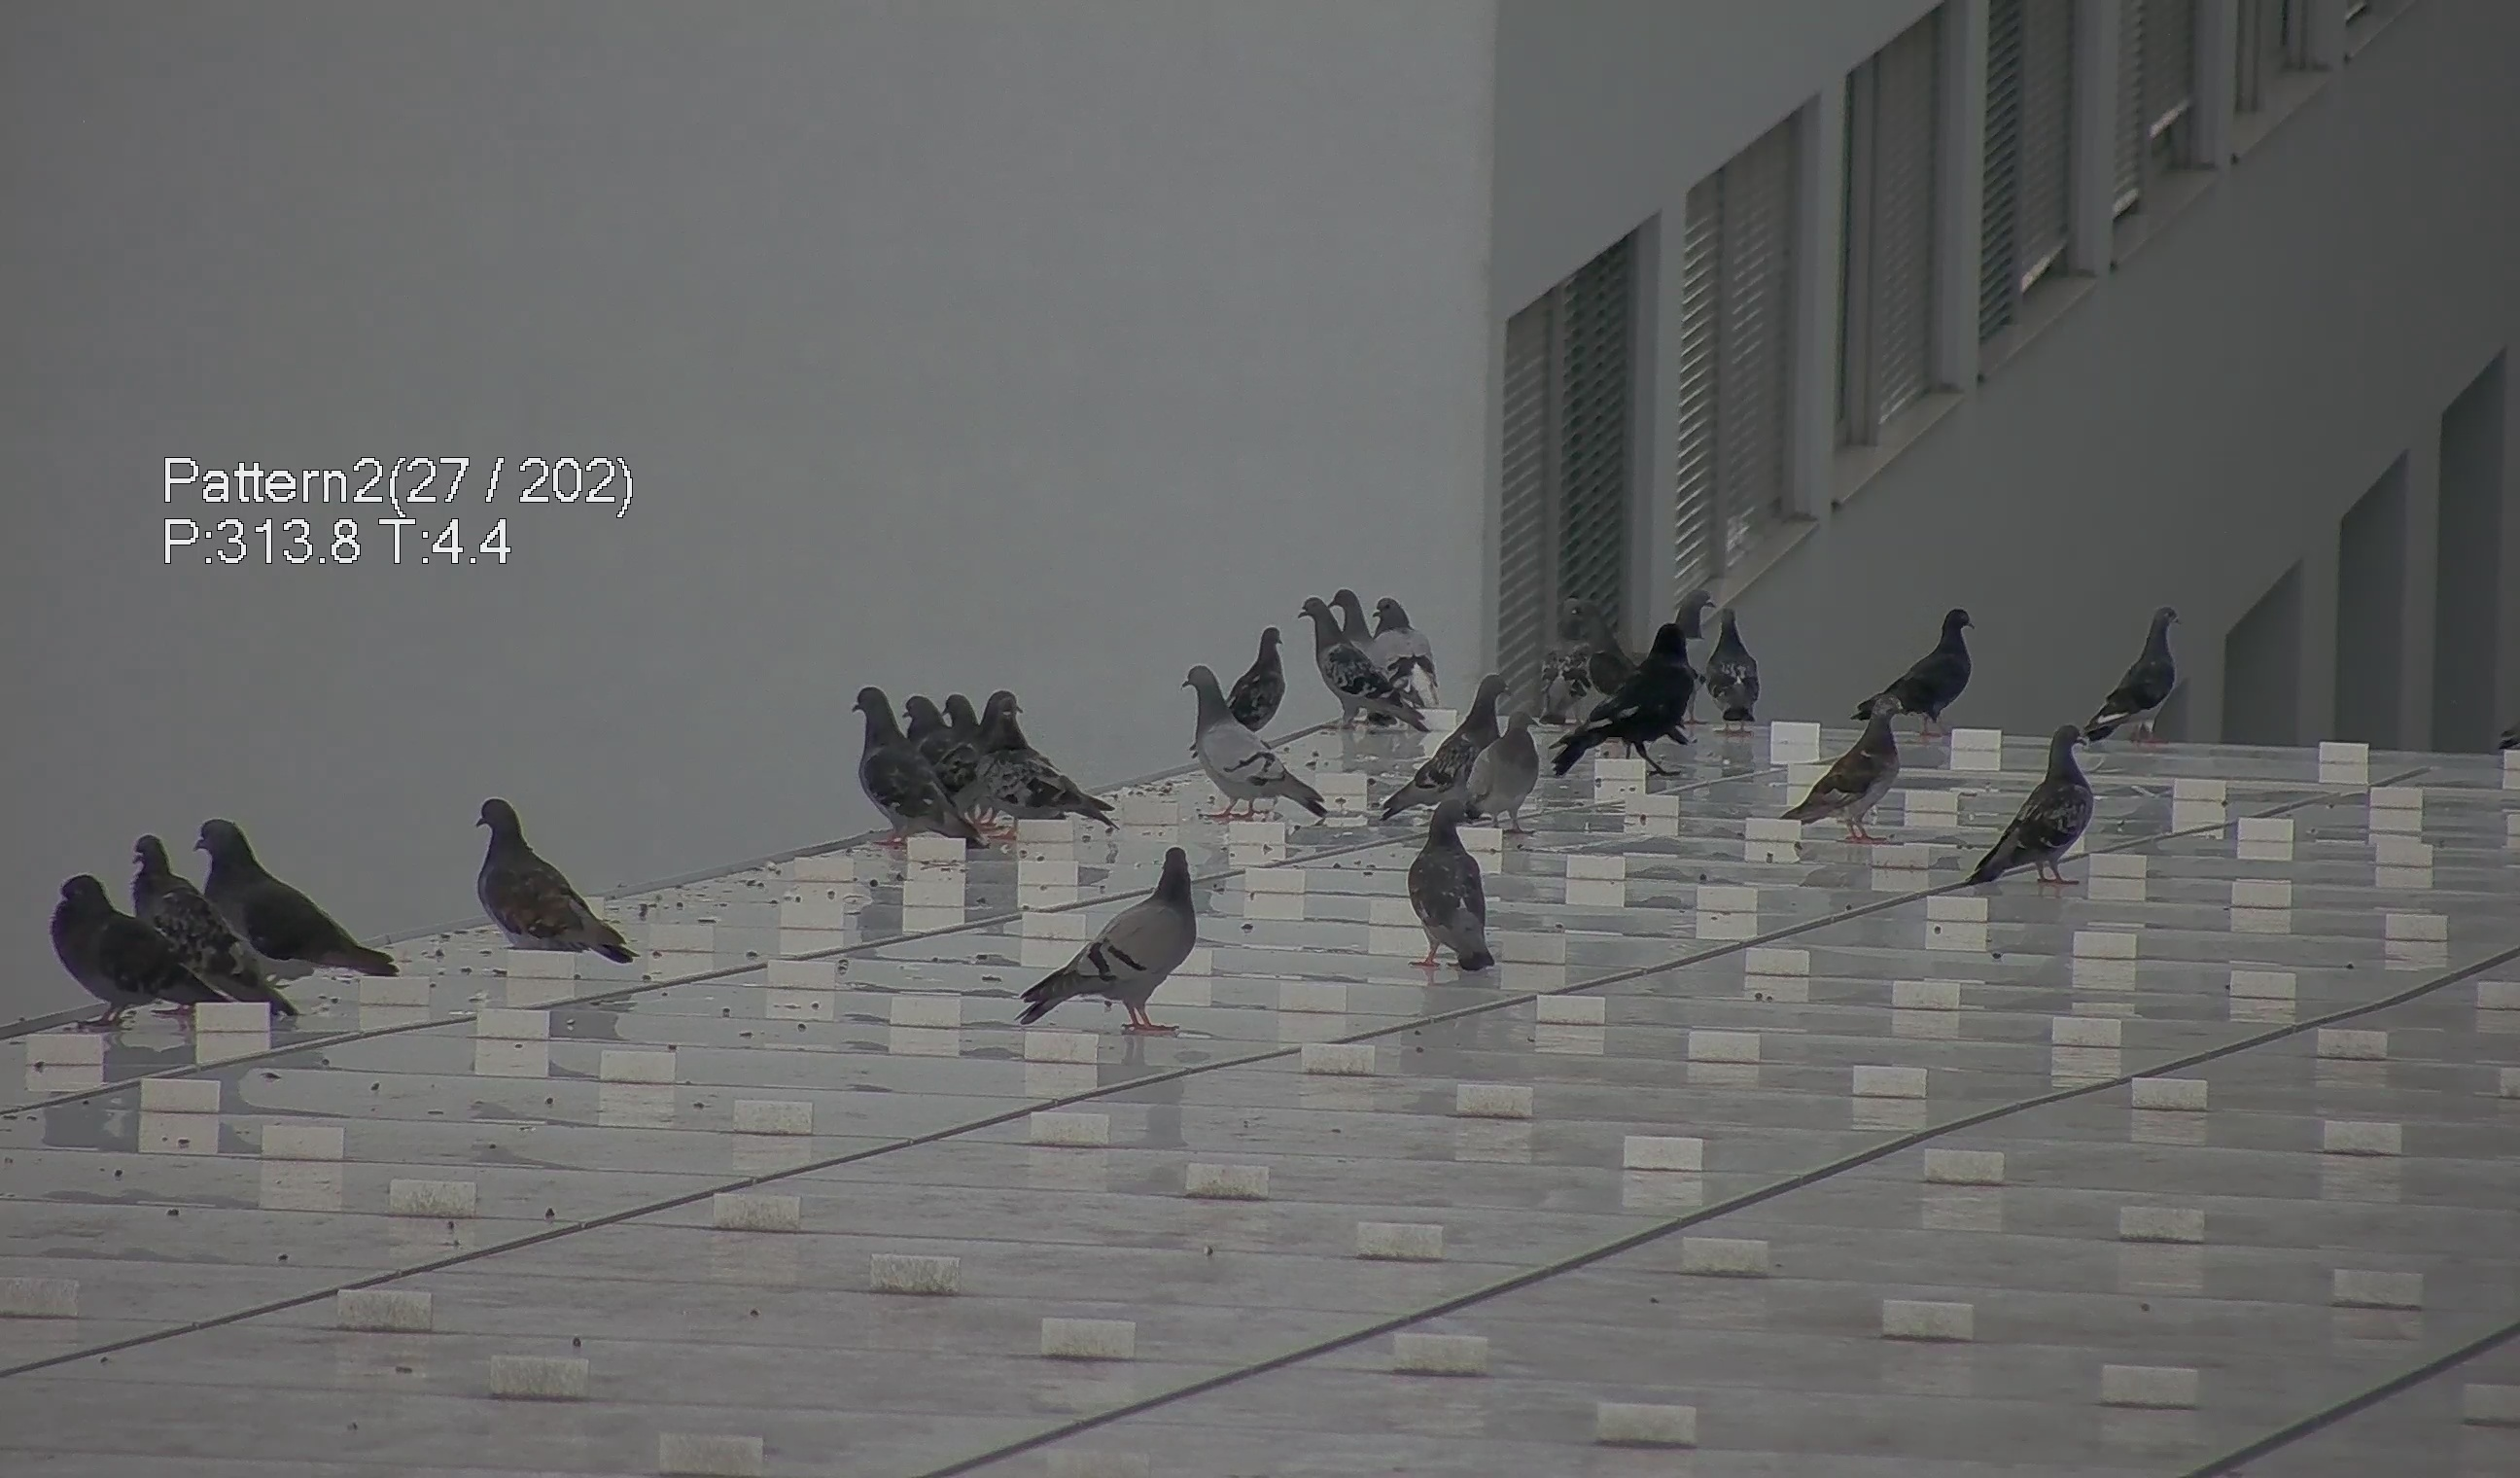Pigeon: (1016, 846, 1212, 1056), (1968, 695, 2158, 896), (178, 815, 382, 992), (441, 785, 624, 982), (127, 825, 288, 1015), (957, 674, 1131, 836), (28, 869, 206, 1022), (839, 677, 987, 860), (899, 681, 1060, 843), (1178, 662, 1329, 832), (1776, 695, 1922, 846), (1567, 626, 1695, 790), (1855, 596, 1989, 739), (1403, 802, 1511, 977), (1300, 593, 1423, 734), (2084, 596, 2196, 750), (1414, 674, 1505, 792), (1465, 711, 1549, 825), (1220, 621, 1294, 732), (1380, 595, 1449, 713), (1532, 595, 1593, 723), (1708, 607, 1766, 741), (1588, 607, 1648, 690), (1338, 581, 1382, 677), (1676, 591, 1702, 644)
